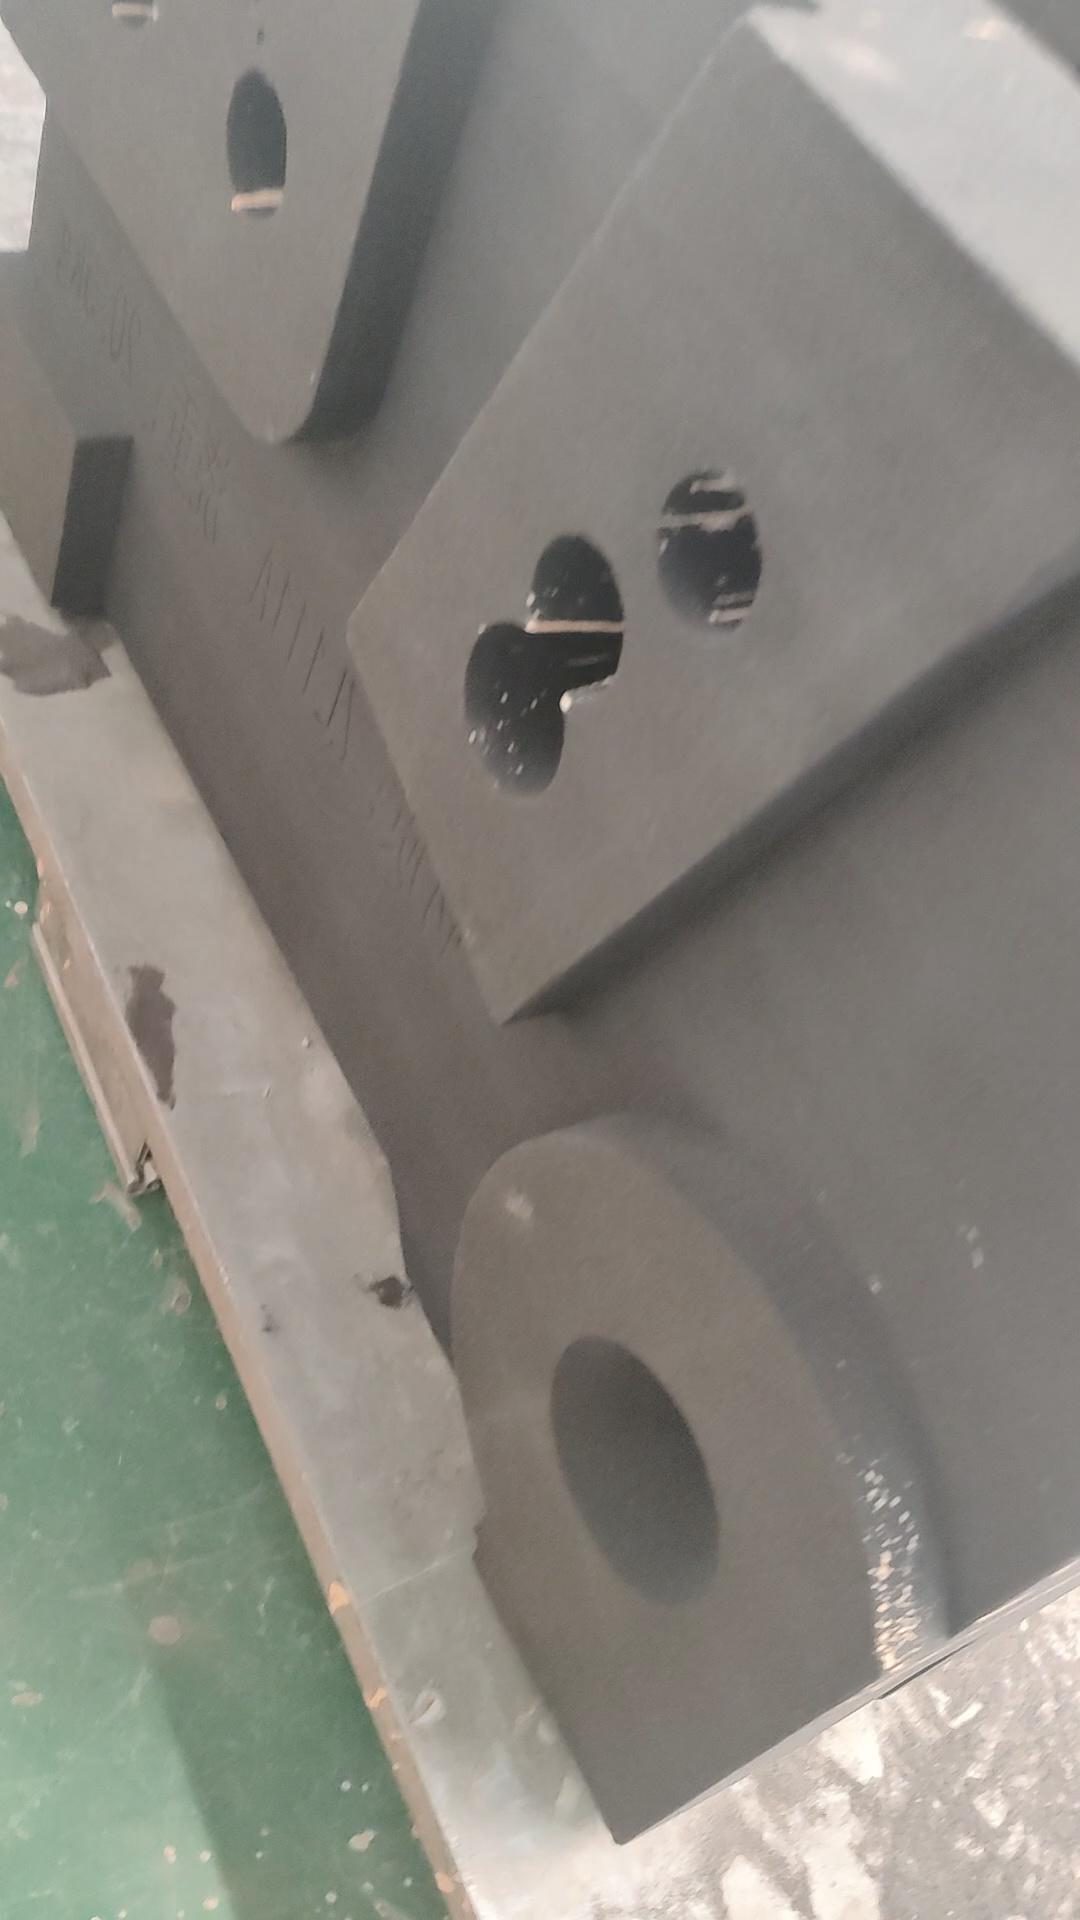pouring hole: (549, 1338, 723, 1614)
